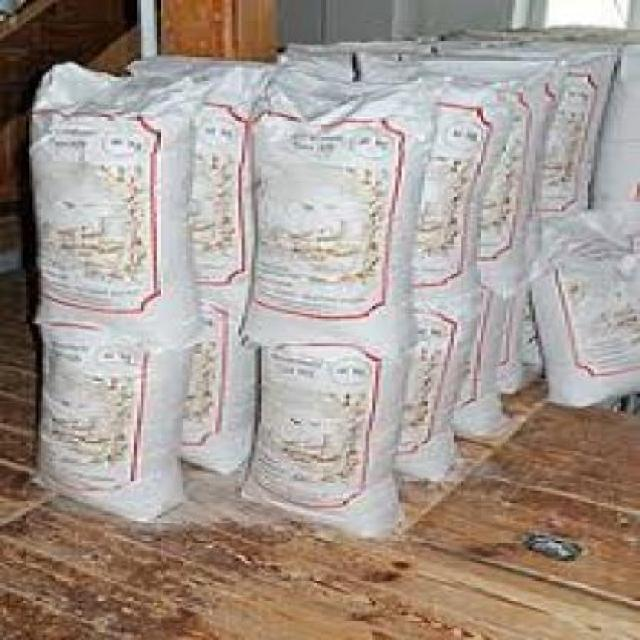gunny_bag: (237, 64, 443, 358), (27, 64, 206, 349), (122, 58, 271, 313), (418, 62, 578, 297), (235, 338, 418, 539), (22, 324, 192, 517), (408, 76, 518, 308), (535, 199, 640, 408), (394, 291, 482, 479), (176, 300, 263, 472), (535, 50, 618, 219), (449, 283, 527, 437), (496, 288, 541, 395), (278, 44, 361, 84), (349, 50, 427, 81)
